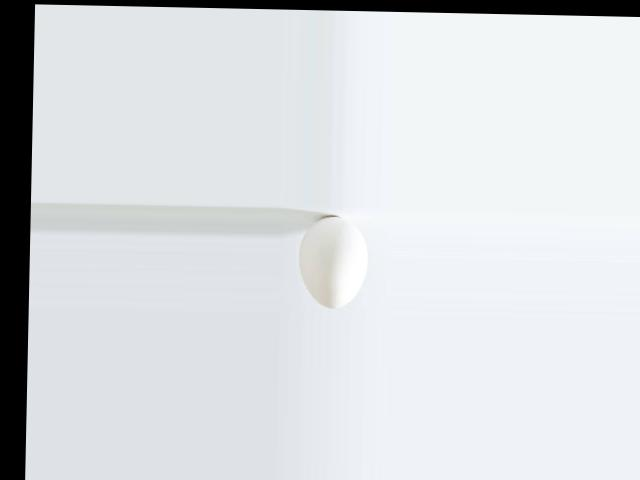egg: (299, 215, 369, 309)
